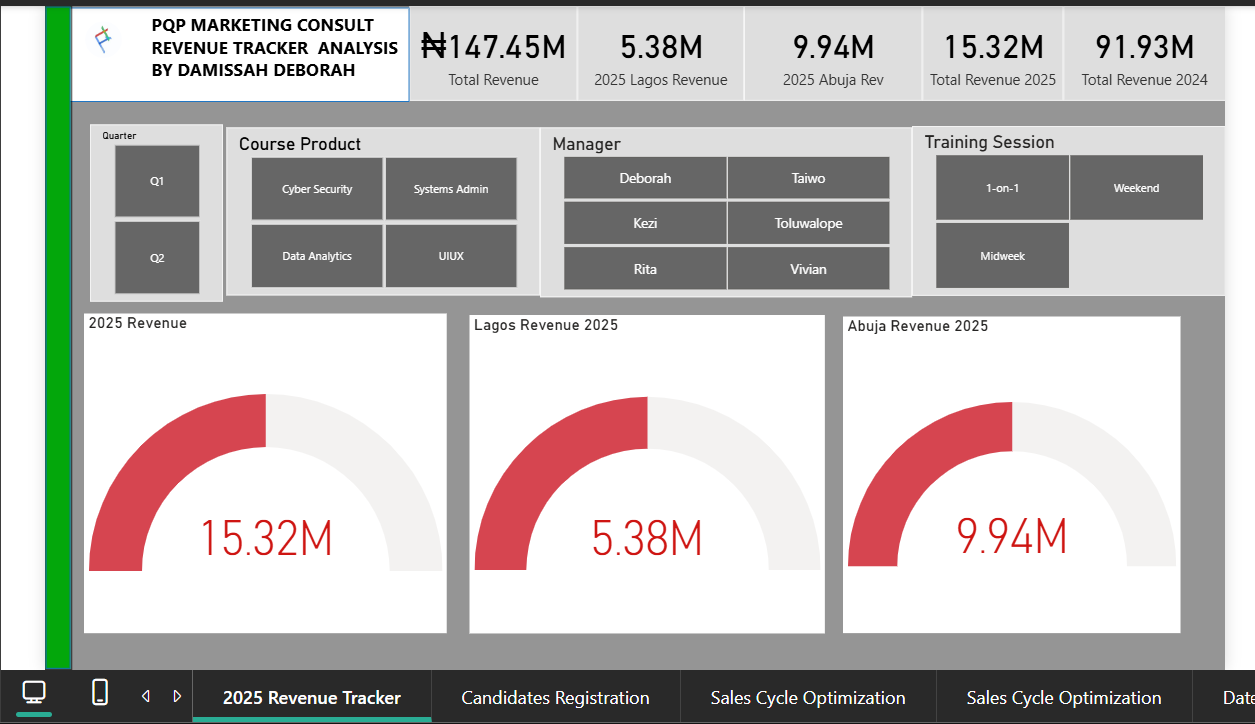

Layout of this report page (visuals, bound fields, positions):
{"tool":"powerbi","page":{"name":"2025 Revenue Tracker","canvas":[1280,720],"ordinal":9},"visuals":[{"type":"card","fields":{"Values":["Global.Total Rev"]},"box":[395.3,0,182.2,102.5],"z":0},{"type":"slicer","fields":{"Values":["Global.Training Session"]},"box":[940.1,130.1,339.9,183.8],"z":1000},{"type":"slicer","fields":{"Values":["Global.Manager"]},"box":[536.8,131.8,403.4,183.8],"z":2000},{"type":"shape","box":[19.5,1.6,375.7,102.5],"z":3000},{"type":"shape","box":[0,0,29,720],"z":4000},{"type":"slicer","fields":{"Values":["Global.Course Product"]},"box":[196.8,131.8,339.9,182.2],"z":5000},{"type":"image","box":[19.5,0,91.1,69.9],"z":6000},{"type":"textbox","box":[110.6,1.6,283,128.5],"z":7000},{"type":"gauge","fields":{"Y":["Global.2025 Revenue"]},"box":[42.3,333.4,393.6,346.5],"z":8000},{"type":"card","fields":{"Values":["Global.Lagos Rev"]},"box":[577.4,0,180.5,102.5],"z":9000},{"type":"card","fields":{"Values":["Global.Abuja Rev"]},"box":[758,0,193.6,102.5],"z":10000},{"type":"card","fields":{"Values":["Global.Total Revenue 2024"]},"box":[1104.4,0,175.7,102.5],"z":11000},{"type":"card","fields":{"Values":["Global.Total Revenue 2025"]},"box":[951.5,0,152.9,102.5],"z":12000},{"type":"gauge","title":"Abuja Revenue 2025","fields":{"Y":["Global.2025 Abj Rev"]},"box":[866.1,337.1,366.1,343.5],"z":13000},{"type":"gauge","title":"Lagos Revenue 2025","fields":{"Y":["Global.Lagos_Rev_2025 _2"]},"box":[459.7,335.5,385.5,345.2],"z":14000}]}

Visuals, with their boxes on the page's 1280x720 design canvas (x1, y1, x2, y2). These are canvas units, not pixel positions in the 1255x724 screenshot, which may show the page scaled, cropped or inside an application window:
card - Global.Total Rev: [x1=395, y1=0, x2=578, y2=102]
slicer - Global.Training Session: [x1=940, y1=130, x2=1280, y2=314]
slicer - Global.Manager: [x1=537, y1=132, x2=940, y2=316]
shape: [x1=20, y1=2, x2=395, y2=104]
shape: [x1=0, y1=0, x2=29, y2=720]
slicer - Global.Course Product: [x1=197, y1=132, x2=537, y2=314]
image: [x1=20, y1=0, x2=111, y2=70]
textbox: [x1=111, y1=2, x2=394, y2=130]
gauge - Global.2025 Revenue: [x1=42, y1=333, x2=436, y2=680]
card - Global.Lagos Rev: [x1=577, y1=0, x2=758, y2=102]
card - Global.Abuja Rev: [x1=758, y1=0, x2=952, y2=102]
card - Global.Total Revenue 2024: [x1=1104, y1=0, x2=1280, y2=102]
card - Global.Total Revenue 2025: [x1=952, y1=0, x2=1104, y2=102]
"Abuja Revenue 2025" gauge: [x1=866, y1=337, x2=1232, y2=681]
"Lagos Revenue 2025" gauge: [x1=460, y1=336, x2=845, y2=681]
